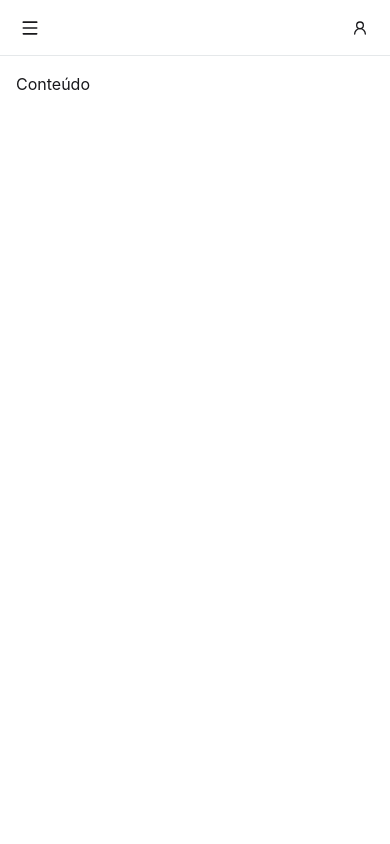
it: AppShell e Acessibilidade WCAG 2.2 AA (M7C-3) › menu mobile abre Sheet com título, descrição acessível e botão de fechar em português
The width and height of the screenshot is (390, 844).
Click the button named "Abrir navegação".
click(30, 28)  # box x1=12 y1=10 x2=48 y2=46
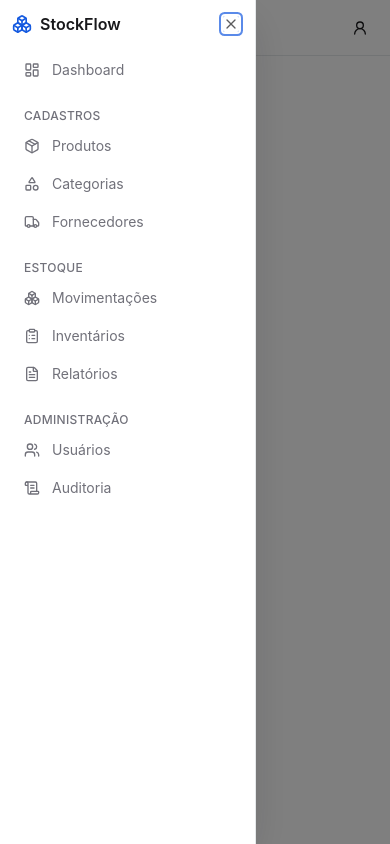
Now the dialog "StockFlow" is shown
Now the button named "Fechar" is shown, box x1=223 y1=16 x2=239 y2=32
